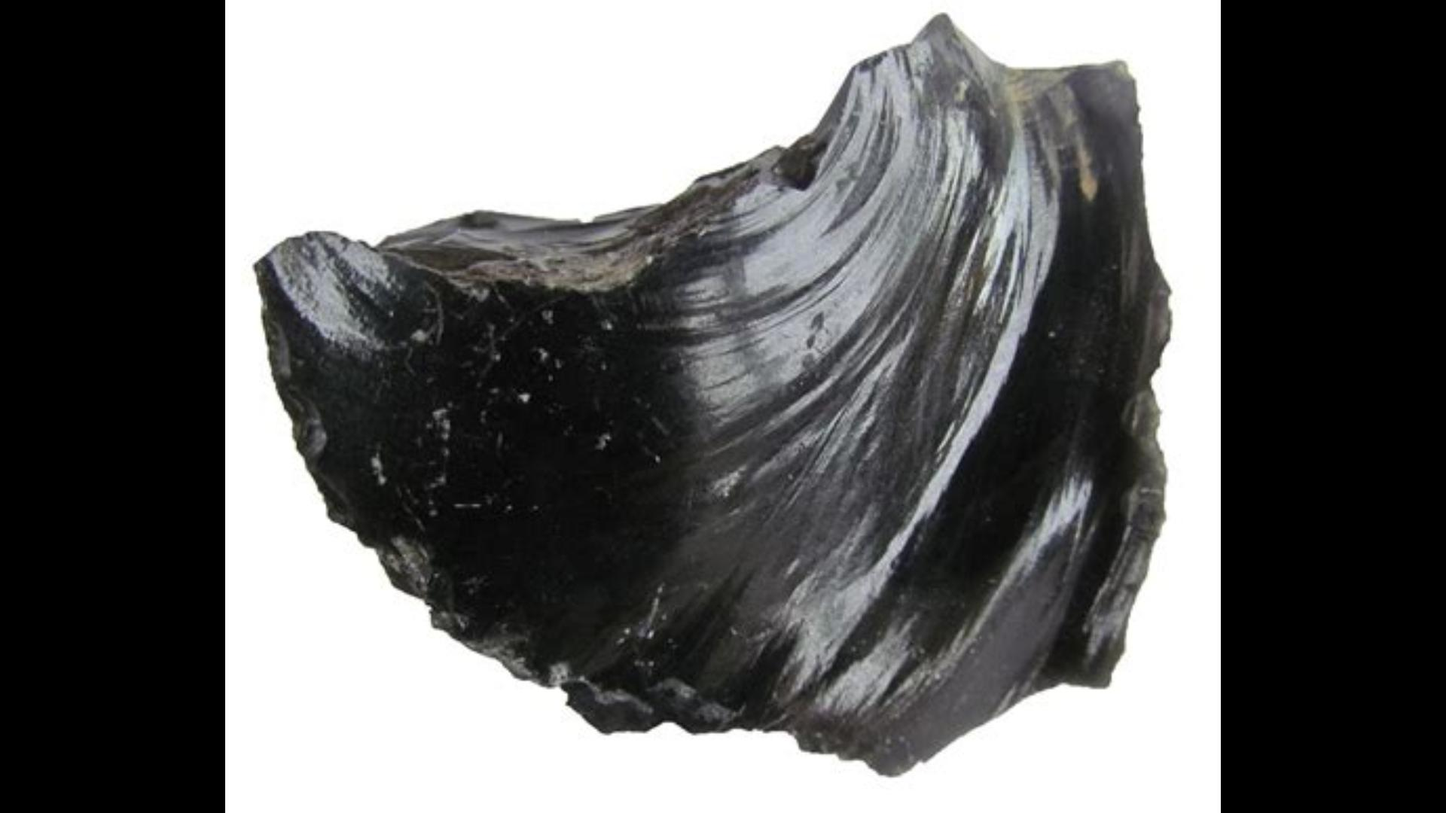rock: (257, 17, 1169, 771)
